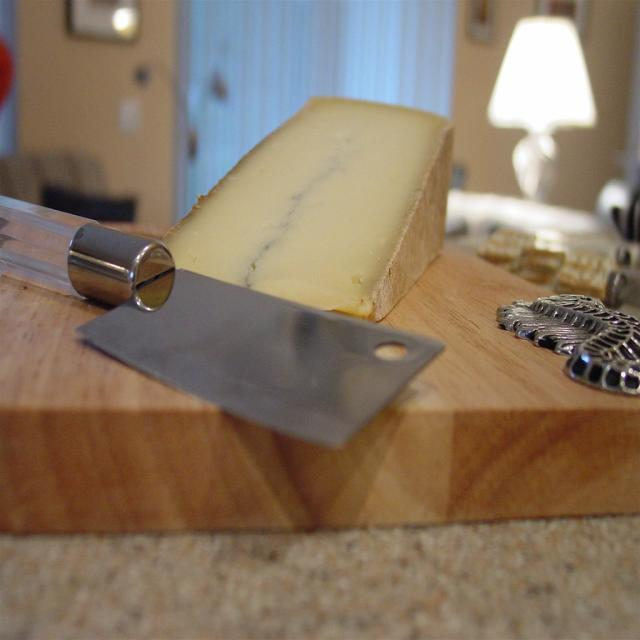Cheese: (156, 94, 457, 324)
